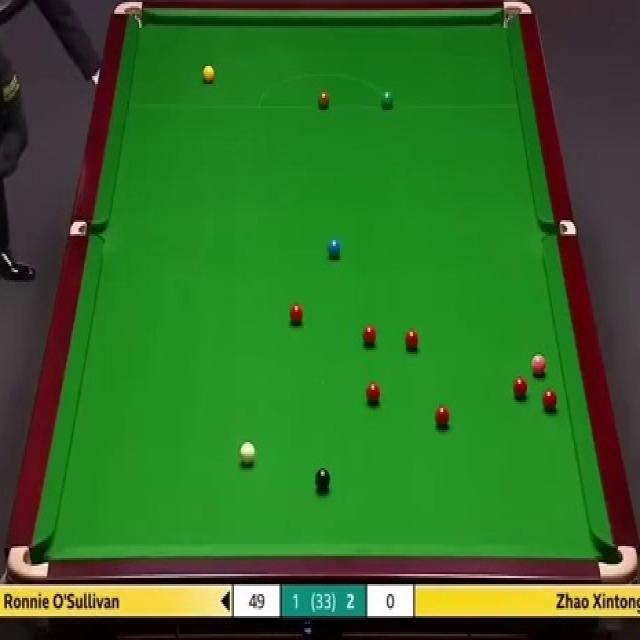black-ball: (313, 467, 332, 494)
blue-ball: (328, 239, 341, 261)
brown-ball: (318, 93, 330, 110)
green-ball: (382, 90, 393, 110)
pink-ball: (531, 352, 547, 379)
red-ball: (288, 300, 305, 326), (541, 387, 558, 413), (405, 327, 420, 352), (432, 405, 447, 430), (367, 382, 381, 407), (362, 325, 376, 349), (513, 378, 528, 399)
white-ball: (238, 441, 256, 470)
yellow-ball: (202, 66, 216, 86)
